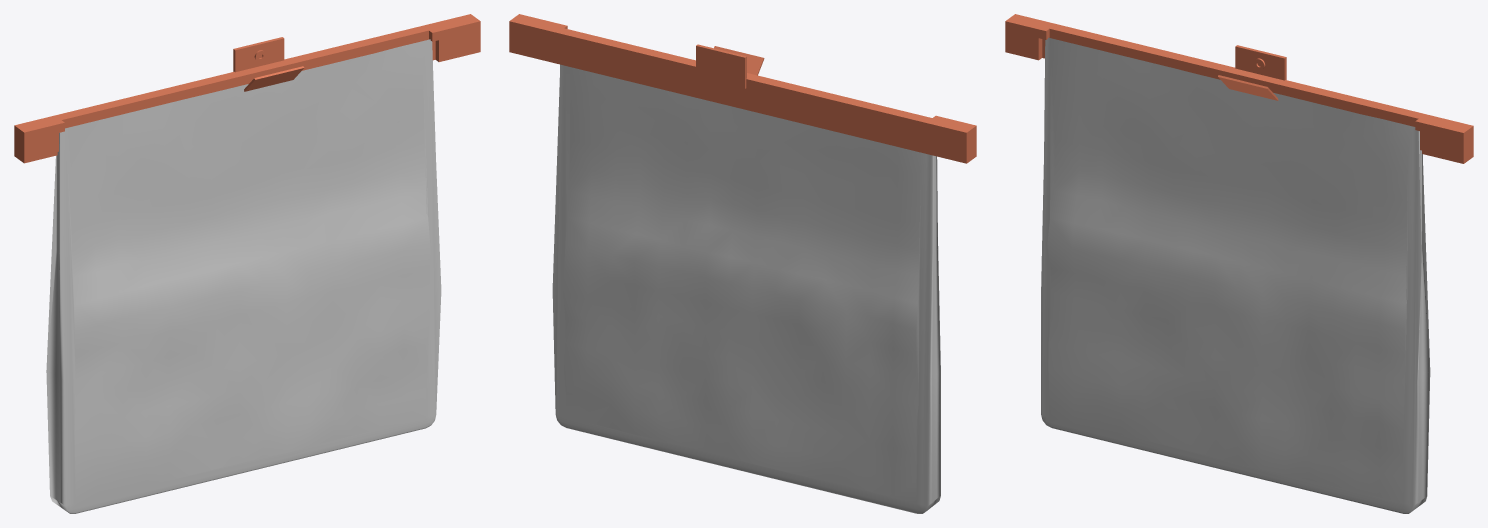
The model's file is Bag.glb.
3 views of the same model, side by side, from view 1: azimuth 30°, elevation 25°; view 2: azimuth 150°, elevation 25°; view 3: azimuth 330°, elevation 25° (orthographic).
Parts seen in each view (by area): view 1: Plastik, Plane, Plane.001; view 2: Plastik, Plane, Plane.001; view 3: Plastik, Plane, Plane.001.
Part boxes in pixels (bbox=[...]): Plastik: bbox=[46, 39, 441, 513]; Plane: bbox=[14, 14, 480, 163]; Plane.001: bbox=[233, 37, 304, 91]; Plastik: bbox=[552, 64, 940, 513]; Plane: bbox=[509, 14, 976, 163]; Plane.001: bbox=[696, 44, 764, 88]; Plastik: bbox=[1041, 37, 1430, 513]; Plane: bbox=[1005, 14, 1473, 163]; Plane.001: bbox=[1218, 45, 1286, 100].
Size of the model in its own units: 6.03 by 5.22 by 0.5164.
